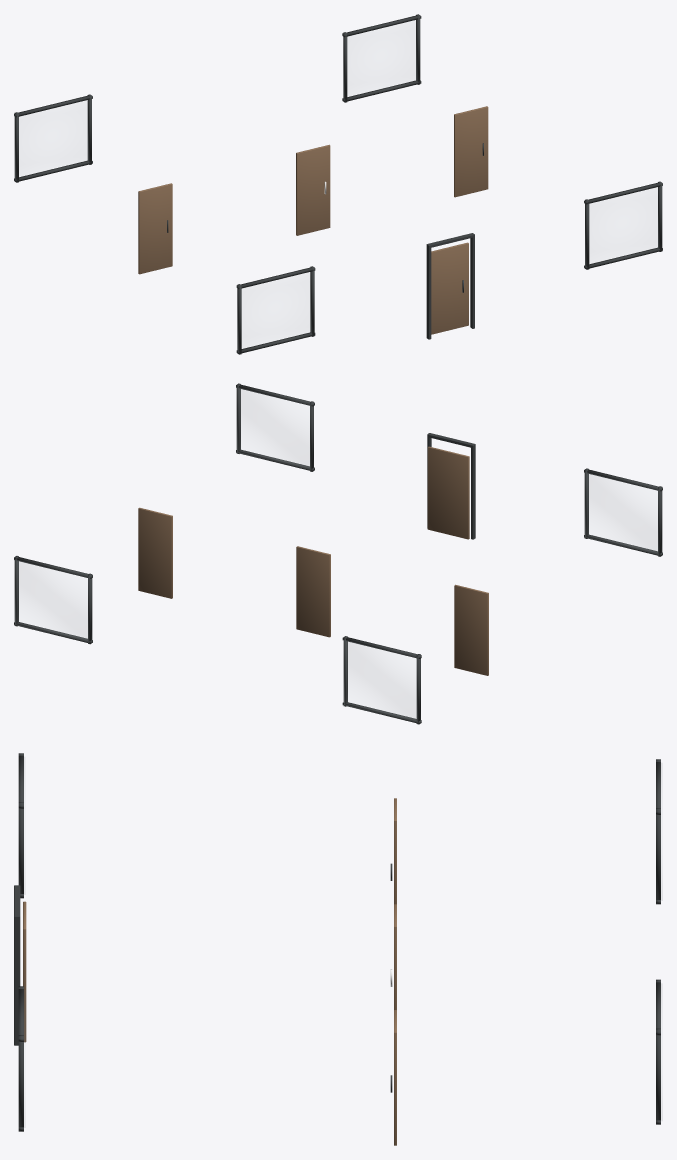
Rendered from openings.glb.
The picture shows the model from 3 angles, top to bottom: view 1: azimuth 30°, elevation 25°; view 2: azimuth 150°, elevation 25°; view 3: azimuth 270°, elevation 25°; orthographic projection. The views are drawn at different scales.
Visible parts, largest first — view 1: FrontLeft_Glass, RearLeft_Glass, FrontRight_Glass, RearRight_Glass, MainEntry_Panel, UtilityEntry_Panel, BedroomOne_Panel, BedroomTwo_Panel, WILLOW_V2_Entry_Frame_Left; view 2: RearLeft_Glass, FrontRight_Glass, FrontLeft_Glass, RearRight_Glass, MainEntry_Panel, BedroomTwo_Panel, UtilityEntry_Panel, BedroomOne_Panel; view 3: WILLOW_V2_Entry_Frame_Right.
Boxes of the visible parts, bbox=[...] form: FrontLeft_Glass: bbox=[242, 272, 309, 348]; RearLeft_Glass: bbox=[19, 101, 86, 176]; FrontRight_Glass: bbox=[590, 188, 657, 263]; RearRight_Glass: bbox=[348, 20, 415, 96]; MainEntry_Panel: bbox=[431, 242, 468, 334]; UtilityEntry_Panel: bbox=[296, 144, 330, 235]; BedroomOne_Panel: bbox=[138, 183, 172, 274]; BedroomTwo_Panel: bbox=[454, 106, 488, 197]; WILLOW_V2_Entry_Frame_Left: bbox=[426, 246, 431, 339]; RearLeft_Glass: bbox=[344, 640, 415, 719]; FrontRight_Glass: bbox=[240, 389, 309, 467]; FrontLeft_Glass: bbox=[588, 474, 657, 552]; RearRight_Glass: bbox=[18, 562, 87, 639]; MainEntry_Panel: bbox=[427, 446, 469, 539]; BedroomTwo_Panel: bbox=[138, 507, 172, 598]; UtilityEntry_Panel: bbox=[296, 546, 330, 637]; BedroomOne_Panel: bbox=[454, 584, 488, 675]; WILLOW_V2_Entry_Frame_Right: bbox=[14, 919, 20, 1045].
Size of the model in its own units: 11.63 by 2.58 by 11.2.
